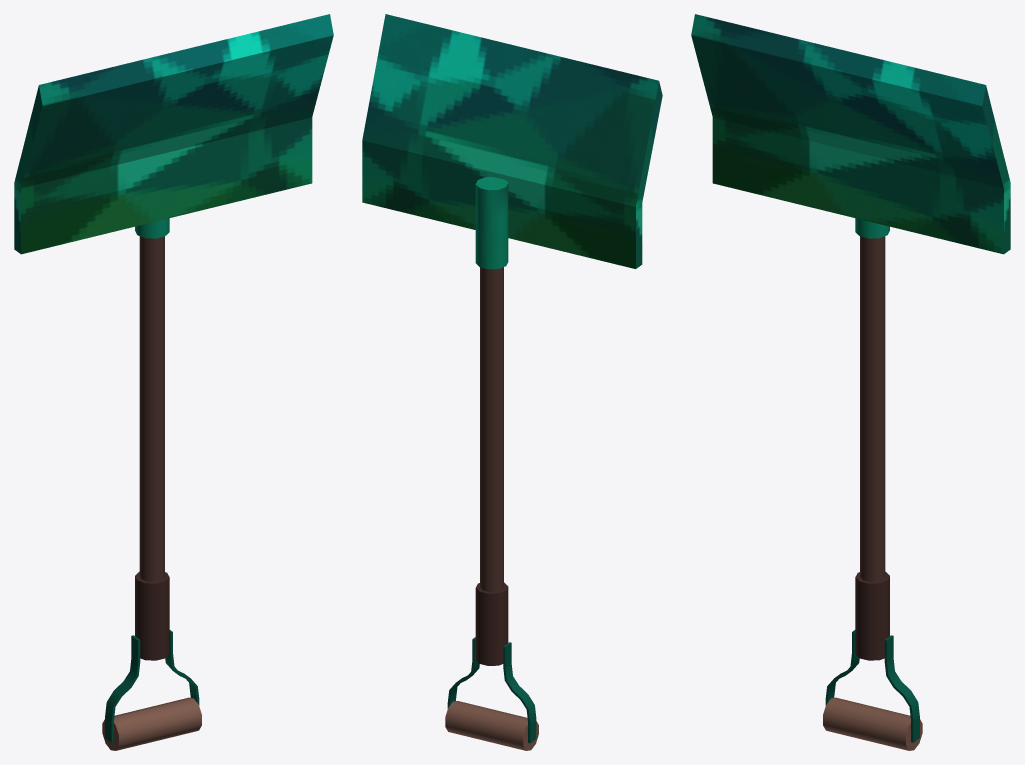
The model's file is Xeng Emerald.fbx.
The picture shows the model from 3 angles, left to right: view 1: azimuth 30°, elevation 25°; view 2: azimuth 150°, elevation 25°; view 3: azimuth 330°, elevation 25°; orthographic projection. The views are drawn at different scales.
Parts seen in each view (by area): view 1: L7, C7, TC7; view 2: L7, C7, TC7; view 3: L7, C7, TC7.
Part boxes in pixels (left/top/right/bottom): L7: left=14, top=14, right=333, bottom=254; C7: left=139, top=236, right=164, bottom=581; TC7: left=102, top=571, right=201, bottom=750; L7: left=362, top=14, right=662, bottom=269; C7: left=480, top=267, right=503, bottom=591; TC7: left=445, top=582, right=538, bottom=750; L7: left=691, top=14, right=1010, bottom=254; C7: left=860, top=236, right=885, bottom=581; TC7: left=823, top=571, right=922, bottom=750.
Size of the model in its own units: 128 by 301 by 33.8.
